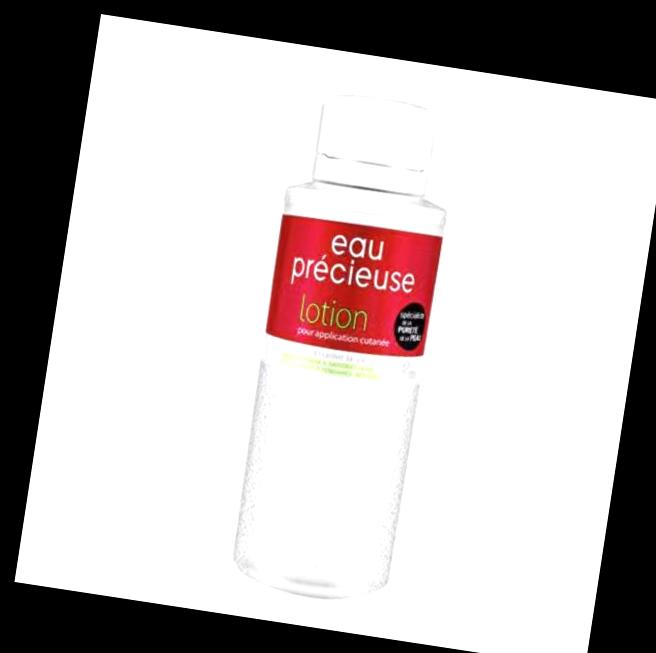cosmetic: (228, 87, 461, 587)
